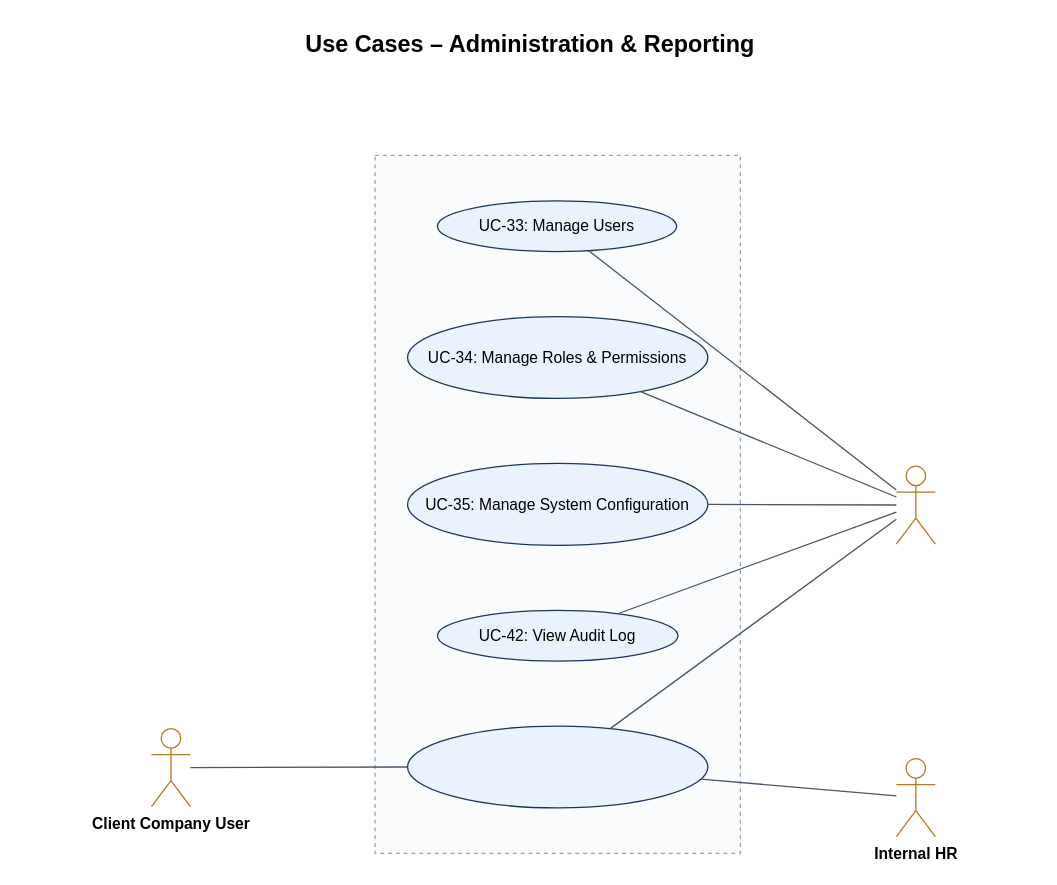
Image size: 1057x885. Some labels were removed from this diagram. The box of each missing label's shape, as (x1, y1, x2, y2) in pixels:
HR Connect: (374, 154, 740, 853)
Platform Admin: (895, 465, 935, 544)
UC-36: View Reports / Dashboard: (406, 725, 708, 808)
